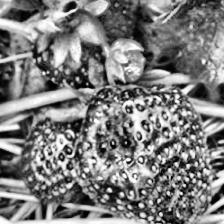Anthracnose Fruit Rot: (75, 102, 206, 224)
